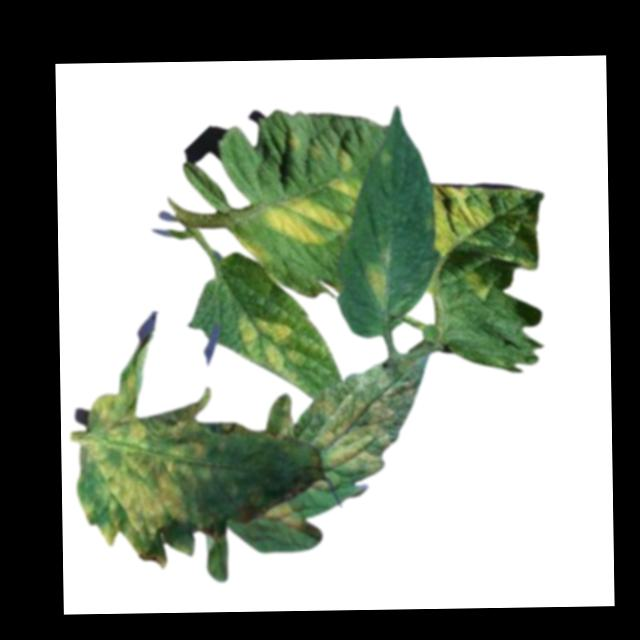Leaf_Mold: (79, 374, 215, 547), (309, 378, 412, 473), (231, 310, 303, 387), (430, 179, 494, 256), (262, 197, 344, 247), (326, 146, 365, 200), (265, 392, 295, 440), (261, 498, 303, 530), (365, 260, 391, 307), (463, 268, 491, 304)
